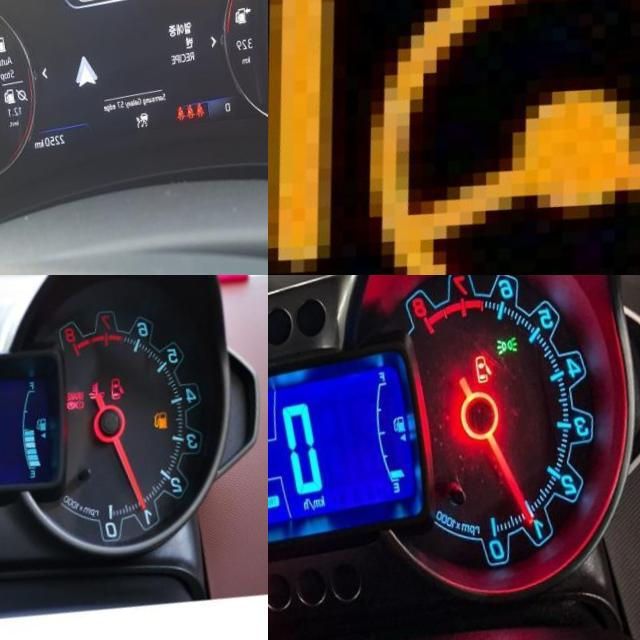Doors: (98, 392, 118, 420)
Engine cooling system: (79, 396, 98, 418)
Low fuel level: (142, 429, 161, 451)
